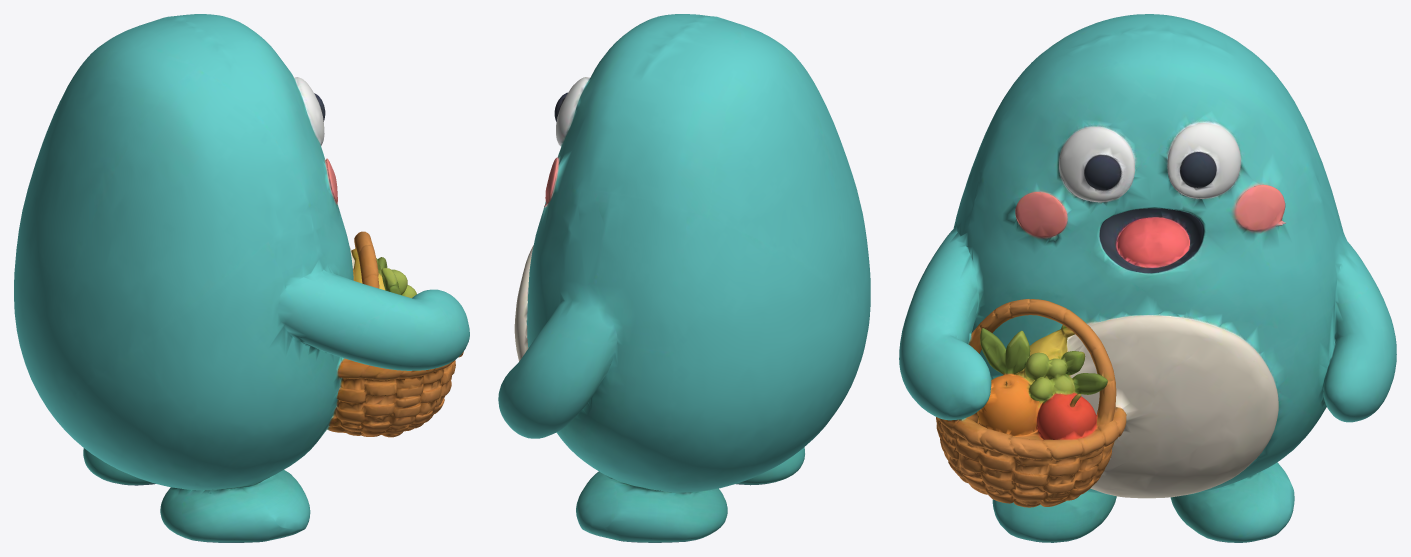
The model's file is client-teal.glb.
3 views of the same model, side by side, from view 1: azimuth 30°, elevation 25°; view 2: azimuth 150°, elevation 25°; view 3: azimuth 270°, elevation 25° (orthographic). The views are drawn at different scales.
Visible parts, largest first — view 1: tripo_node_6ad2f501-ee59-46db-86d3-c7fbffb9820d; view 2: tripo_node_6ad2f501-ee59-46db-86d3-c7fbffb9820d; view 3: tripo_node_6ad2f501-ee59-46db-86d3-c7fbffb9820d.
Part boxes in pixels (x1,y1,x2,y2): tripo_node_6ad2f501-ee59-46db-86d3-c7fbffb9820d: [14, 14, 469, 542]; tripo_node_6ad2f501-ee59-46db-86d3-c7fbffb9820d: [498, 14, 870, 542]; tripo_node_6ad2f501-ee59-46db-86d3-c7fbffb9820d: [899, 14, 1396, 542].
Bounding box in the file's own units: 0.784 × 0.9997 × 0.9247.
Materials: 1 (1 with a texture image).
